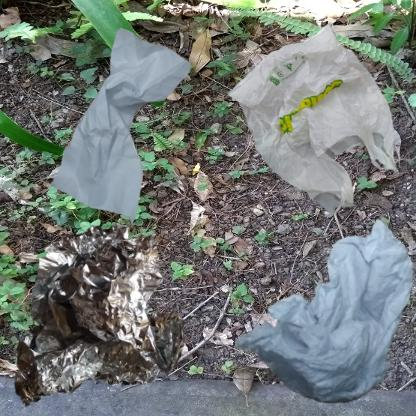aluminio: (10, 213, 200, 416)
bolsa: (213, 10, 416, 226)
papel: (10, 10, 247, 262), (213, 213, 416, 416)
